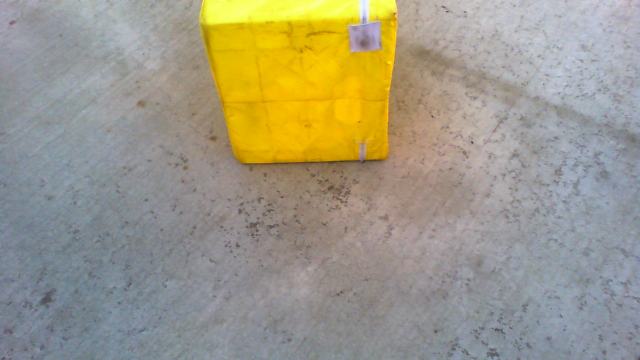cube: (199, 1, 398, 165)
